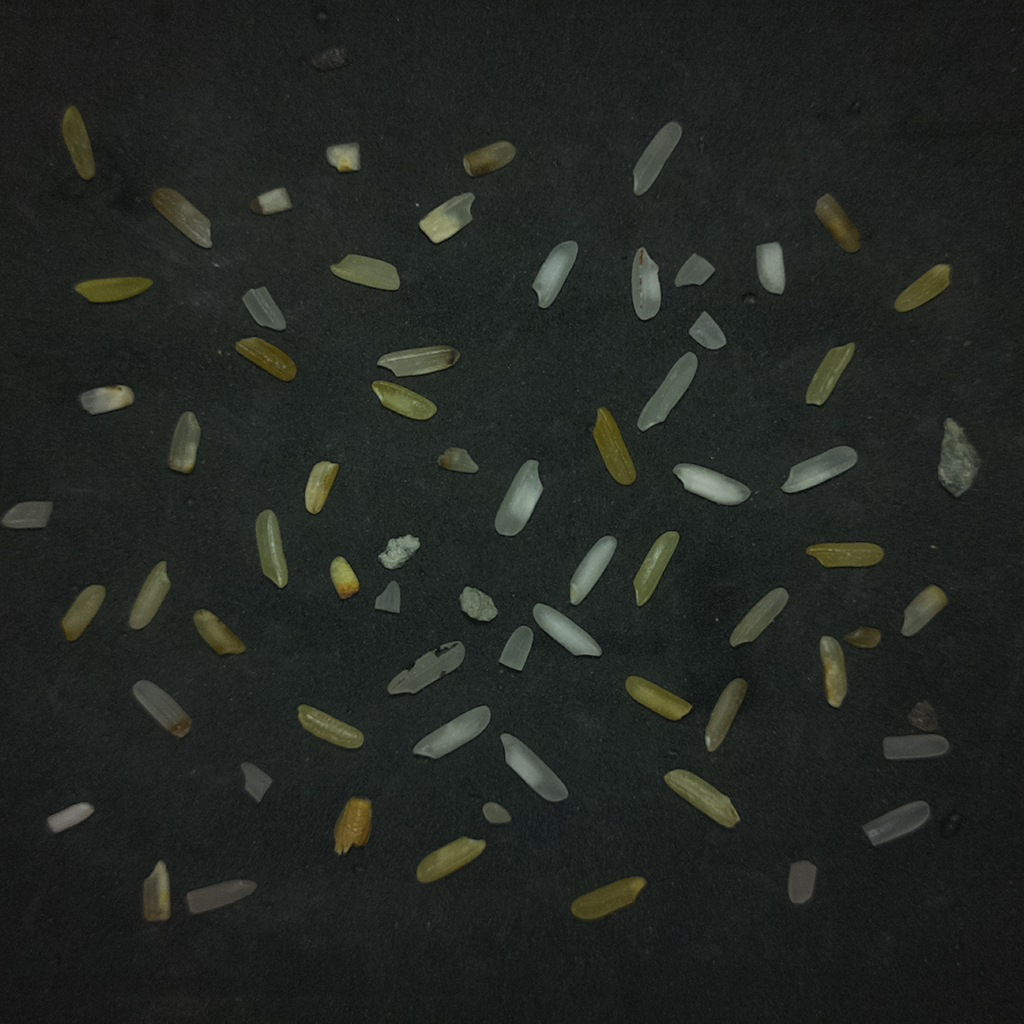broken: (242, 286, 286, 330), (0, 501, 52, 528), (689, 311, 725, 349), (499, 626, 531, 668), (787, 860, 816, 904), (675, 253, 713, 285), (241, 764, 270, 800), (375, 581, 398, 610), (482, 801, 510, 824)
chalky: (501, 734, 566, 800), (494, 459, 542, 536), (534, 605, 599, 654), (570, 535, 615, 604), (674, 463, 748, 503), (420, 192, 474, 243), (533, 241, 575, 306), (47, 802, 93, 833), (756, 242, 784, 292)
damaged: (388, 642, 463, 693), (132, 680, 190, 737), (377, 345, 459, 376), (193, 609, 244, 654), (819, 635, 847, 707), (463, 140, 514, 176), (305, 461, 338, 514), (79, 384, 134, 414), (330, 556, 359, 599), (250, 187, 292, 215), (438, 447, 478, 473), (325, 143, 360, 172), (843, 627, 881, 648)
discolored: (664, 769, 739, 827), (729, 587, 789, 647), (151, 188, 211, 247), (634, 531, 679, 606), (592, 407, 635, 485), (570, 876, 646, 920), (416, 837, 485, 883), (805, 342, 854, 405), (705, 679, 747, 751), (297, 704, 363, 749), (625, 676, 691, 720), (129, 561, 171, 630), (815, 194, 861, 253), (235, 337, 296, 381), (894, 264, 950, 311), (255, 509, 288, 588), (371, 380, 436, 420), (61, 584, 105, 641), (330, 254, 399, 290), (61, 105, 94, 180), (901, 585, 947, 636), (74, 277, 152, 303), (168, 411, 200, 473), (805, 542, 883, 567), (142, 860, 170, 921)
foreign: (938, 419, 979, 495), (334, 797, 371, 854), (378, 534, 418, 568), (460, 586, 495, 620), (907, 701, 938, 732), (311, 46, 345, 68)
red: (631, 247, 661, 321)
whole: (637, 353, 694, 429), (413, 705, 489, 757), (633, 121, 679, 193), (782, 446, 855, 491), (863, 801, 929, 845), (186, 879, 256, 914), (883, 735, 948, 758)
